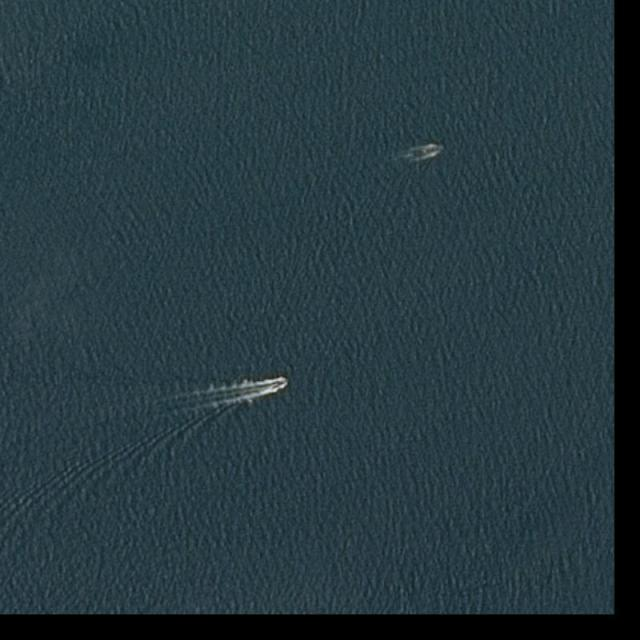ship: (426, 144, 441, 156), (276, 378, 286, 387)
